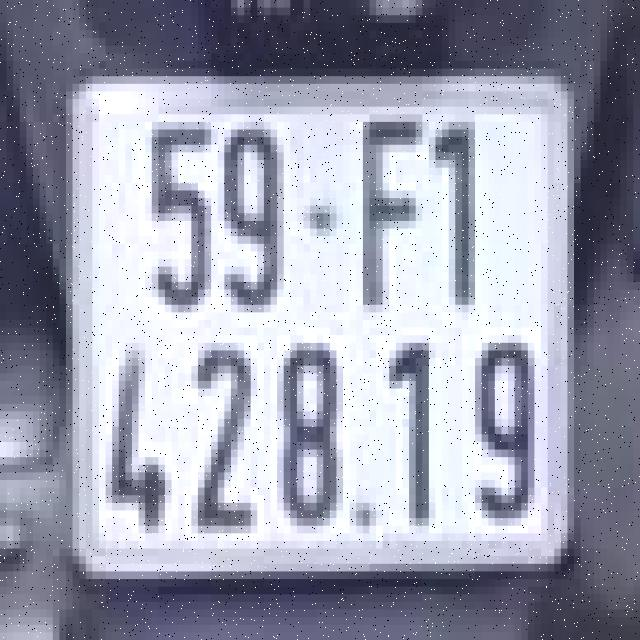1: (380, 332, 446, 530), (432, 107, 485, 320)
2: (188, 328, 261, 533)
4: (86, 316, 185, 560)
5: (138, 110, 224, 332)
8: (267, 328, 353, 533)
9: (214, 114, 300, 320), (468, 316, 541, 545)
F: (347, 107, 432, 320)
